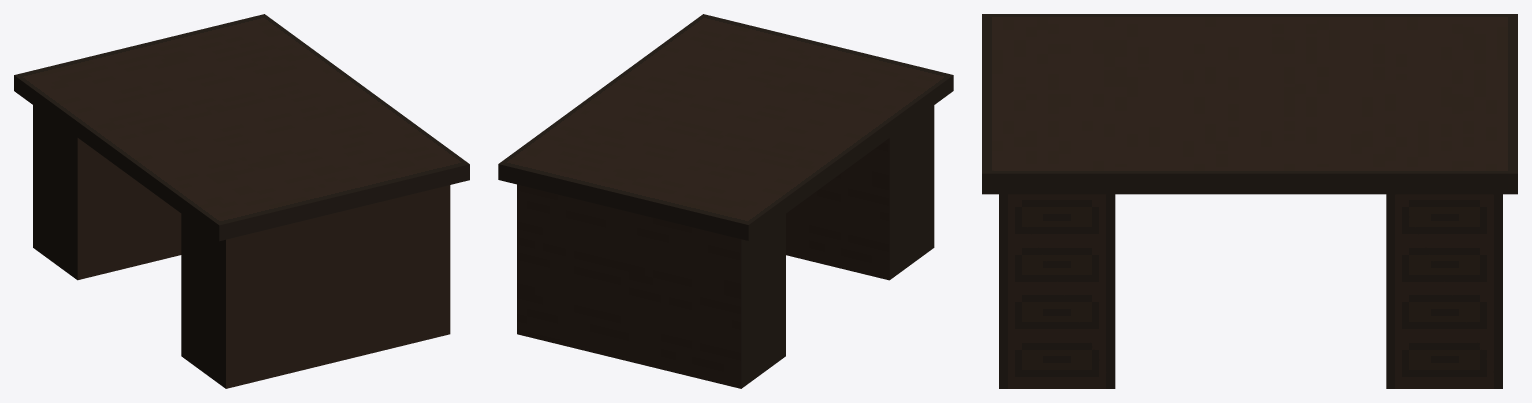
Rendered from Desk.fbx.
3 views of the same model, side by side, from view 1: azimuth 30°, elevation 25°; view 2: azimuth 150°, elevation 25°; view 3: azimuth 270°, elevation 25° (orthographic). The views are drawn at different scales.
Visible parts, largest first — view 1: pCube2, pCube4, pCube3; view 2: pCube2, pCube3, pCube4; view 3: pCube2, pCube4, pCube3.
Part boxes in pixels (x1,y1,x2,y2): pCube2: [14, 14, 469, 241]; pCube4: [181, 185, 450, 388]; pCube3: [33, 105, 181, 280]; pCube2: [498, 14, 953, 240]; pCube3: [517, 184, 785, 388]; pCube4: [786, 105, 934, 280]; pCube2: [982, 14, 1517, 194]; pCube4: [999, 194, 1115, 388]; pCube3: [1386, 194, 1502, 388].
Bounding box in the file's own units: 184 × 120 × 260.
